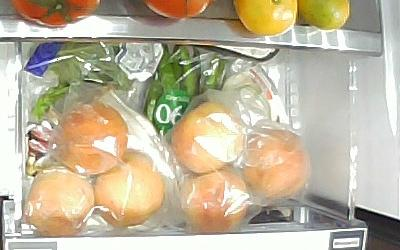peach_vinyl: (94, 148, 165, 228), (175, 99, 246, 175), (55, 102, 128, 175), (26, 168, 94, 238), (243, 129, 309, 199), (180, 171, 249, 233)
